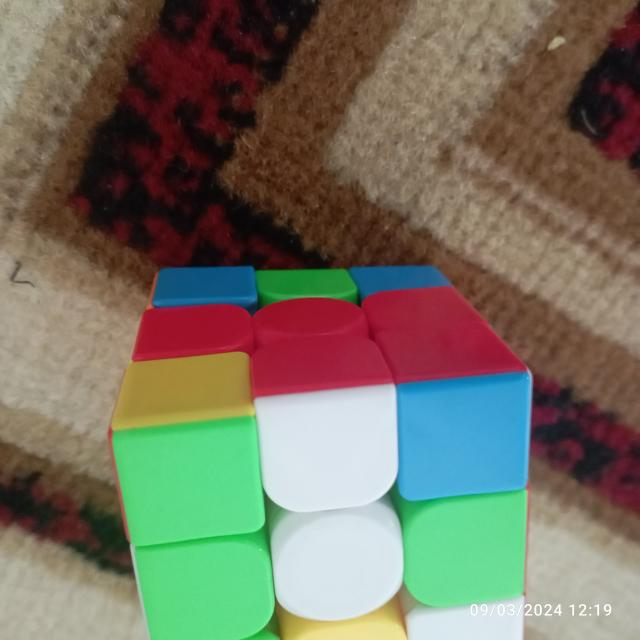Rub: (103, 255, 534, 640)
